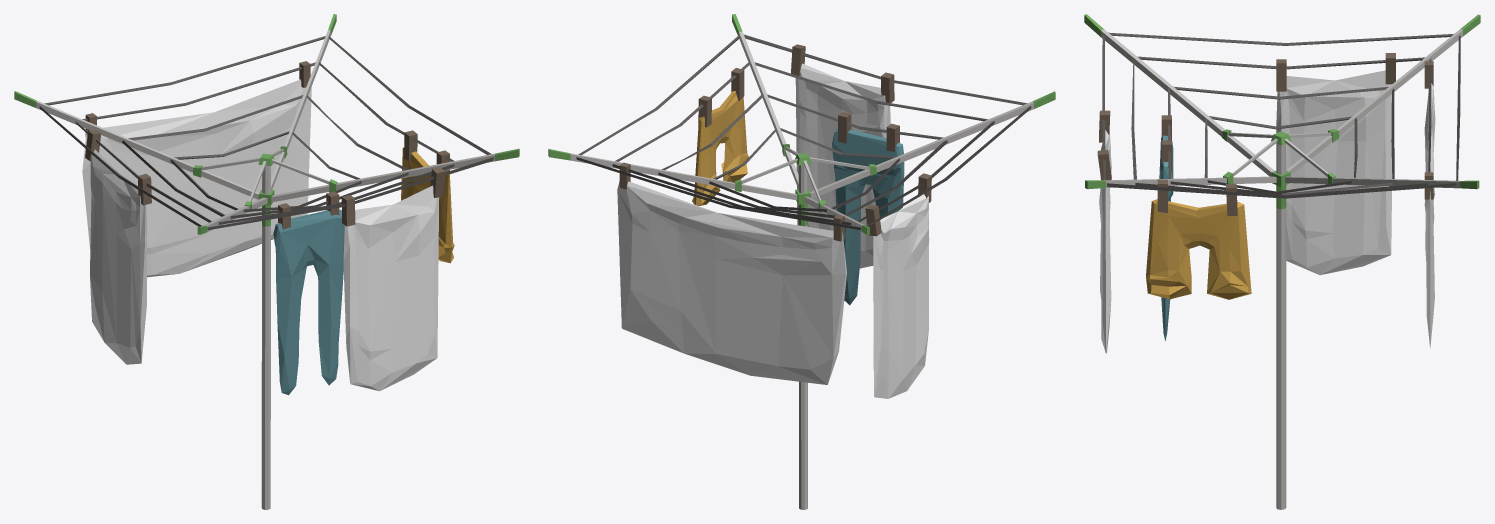
Rendered from SM_Prop_WashingLine_05.fbx.
The picture shows the model from 3 angles, left to right: view 1: azimuth 30°, elevation 25°; view 2: azimuth 150°, elevation 25°; view 3: azimuth 270°, elevation 25°; orthographic projection. The views are drawn at different scales.
Parts seen in each view (by area): view 1: SM_Prop_WashingLine_05; view 2: SM_Prop_WashingLine_05; view 3: SM_Prop_WashingLine_05.
Boxes of the visible parts, x1,y1,x2,y2 form: SM_Prop_WashingLine_05: (14, 14, 519, 509); SM_Prop_WashingLine_05: (548, 14, 1055, 509); SM_Prop_WashingLine_05: (1084, 14, 1480, 509).
Bounding box in the file's own units: 191 × 219 × 191.
